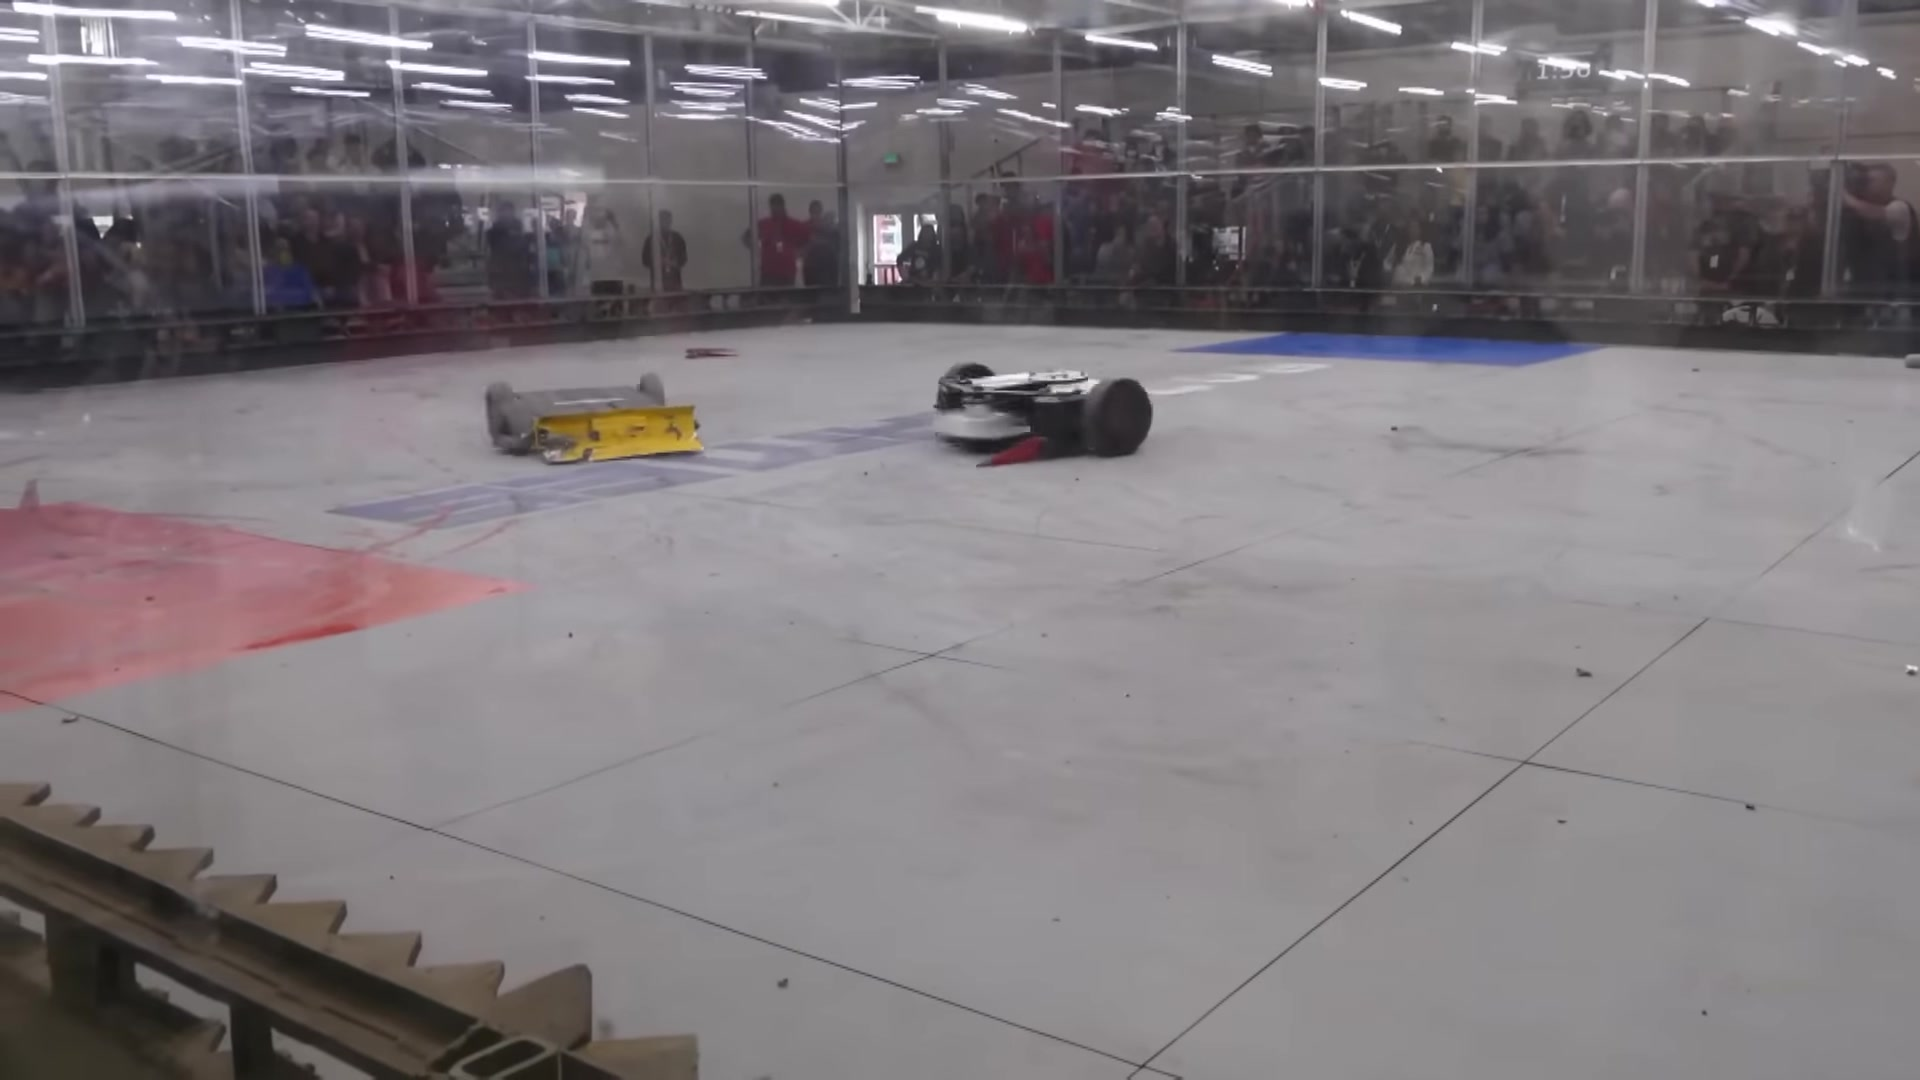combatbot: (935, 360, 1156, 465), (485, 368, 713, 463)
debris: (682, 344, 741, 359)
